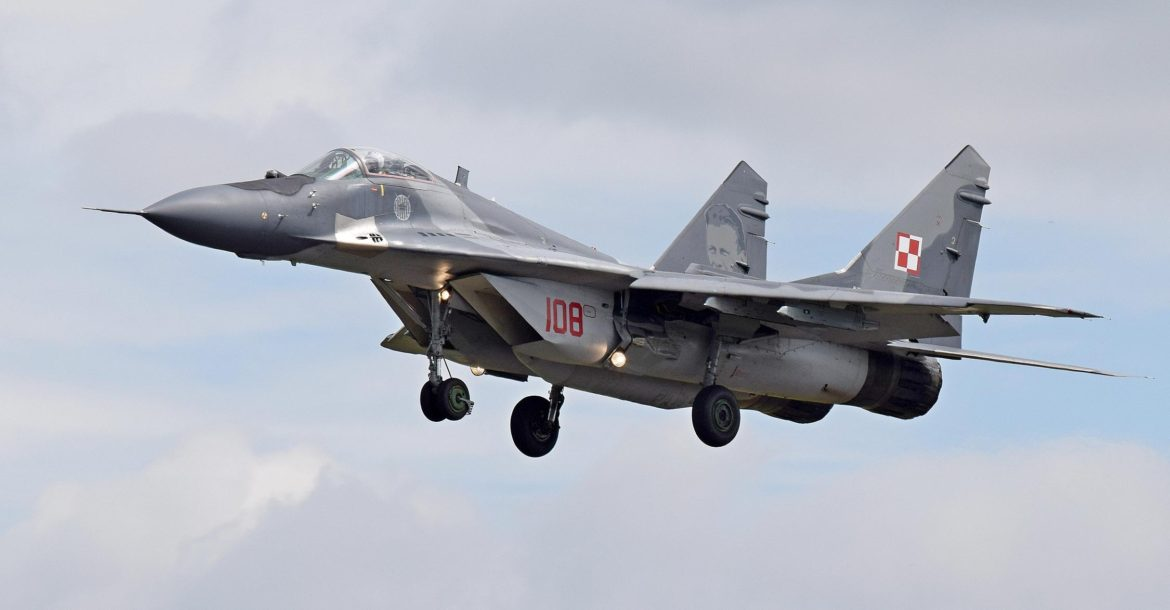Mig-29: (92, 65, 1093, 497)
